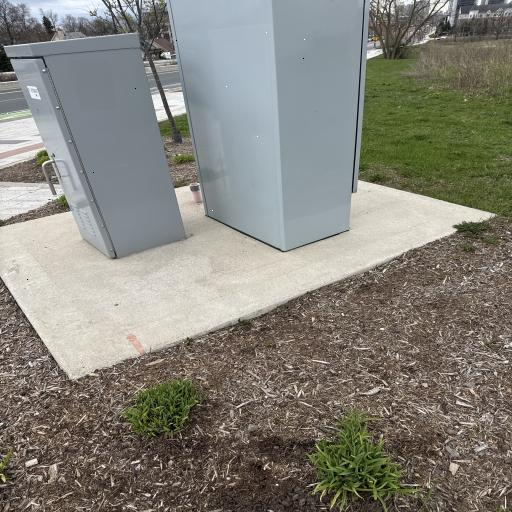Electrical Box: (165, 0, 365, 250), (0, 30, 189, 261)
